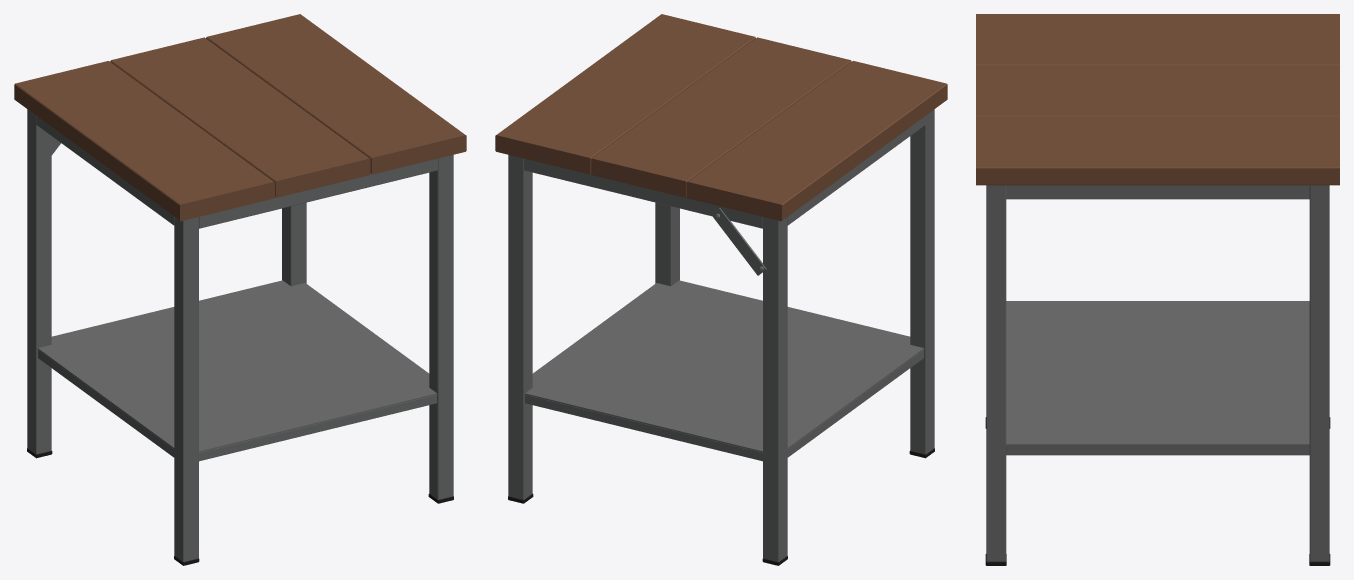
The model's file is side-table-567095212553.glb.
3 views of the same model, side by side, from view 1: azimuth 30°, elevation 25°; view 2: azimuth 150°, elevation 25°; view 3: azimuth 270°, elevation 25° (orthographic). The views are drawn at different scales.
Parts seen in each view (by area): view 1: metal, wood-coffee; view 2: metal, wood-coffee; view 3: metal, wood-coffee.
Boxes of the visible parts, <box> form: metal: <box>27,109,453,561</box>; wood-coffee: <box>14,14,466,221</box>; metal: <box>508,109,934,561</box>; wood-coffee: <box>495,14,947,221</box>; metal: <box>986,185,1329,561</box>; wood-coffee: <box>976,14,1339,185</box>.
Size of the model in its own units: 0.45 by 0.55 by 0.45.
